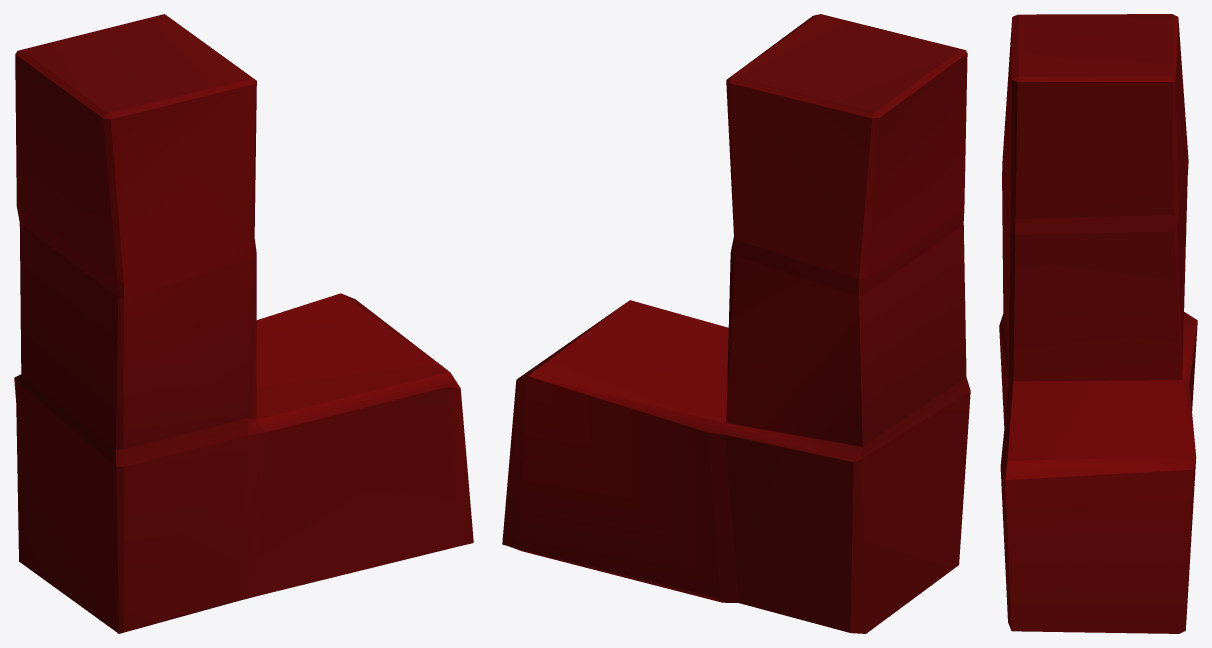
File: geology-carvedstone-stoneblock_v3.fbx
3 renders of one model, left to right at view 1: azimuth 30°, elevation 25°; view 2: azimuth 150°, elevation 25°; view 3: azimuth 270°, elevation 25°, orthographic. The views are drawn at different scales.
Parts seen in each view (by area): view 1: StoneBlock_v3; view 2: StoneBlock_v3; view 3: StoneBlock_v3.
Part boxes in pixels (x1=…): StoneBlock_v3: x1=14, y1=14, x2=473, y2=633; StoneBlock_v3: x1=502, y1=14, x2=970, y2=633; StoneBlock_v3: x1=999, y1=14, x2=1197, y2=633.
Size of the model in its own units: 6.44 by 8.68 by 3.36.
